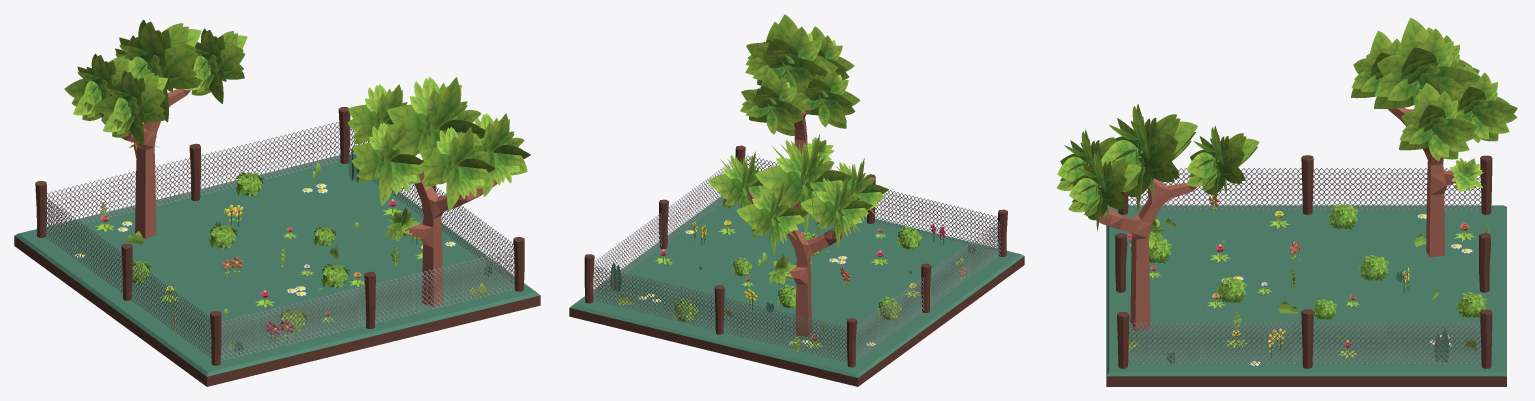
File: chicken_plot_no_chicken_house_no_fence.fbx
3 views of the same model, side by side, from view 1: azimuth 30°, elevation 25°; view 2: azimuth 150°, elevation 25°; view 3: azimuth 270°, elevation 25° (orthographic). The views are drawn at different scales.
Parts seen in each view (by area): view 1: Ground, Tree 1.001, Tree 1, Cylinder.004, Cylinder.003, Cylinder.002, Cylinder.001, Shrub.002, Shrub.001, Shrub.004; view 2: Ground, Tree 1, Tree 1.001, Cylinder.003, Cylinder.002, Cylinder.001, Cylinder.004, Shrub, Shrub.003, Shrub.002; view 3: Ground, Tree 1, Tree 1.001, Cylinder.001, Cylinder.002, Cylinder.003, Cylinder.004, Shrub.004, Shrub.003, Shrub.001, Shrub.002, Shrub.
Part boxes in pixels (x1,y1,x2,y2): Ground: (14,155,540,386); Tree 1.001: (347,77,530,307); Tree 1: (64,19,247,238); Cylinder.004: (220,250,514,361); Cylinder.003: (46,121,339,233); Cylinder.002: (35,181,221,365); Cylinder.001: (338,107,524,291); Shrub.002: (235,172,263,196); Shrub.001: (320,263,349,288); Shrub.004: (209,224,237,248); Ground: (569,193,1024,386); Tree 1: (708,134,888,336); Tree 1.001: (740,14,860,207); Cylinder.003: (594,266,847,361); Cylinder.002: (847,209,1007,367); Cylinder.001: (584,145,745,303); Cylinder.004: (746,155,998,250); Shrub: (897,225,921,249); Shrub.003: (878,296,901,320); Shrub.002: (673,299,697,322); Ground: (1106,205,1506,386); Tree 1: (1351,17,1517,257); Tree 1.001: (1056,104,1259,331); Cylinder.001: (1117,309,1492,368); Cylinder.002: (1118,155,1492,214); Cylinder.003: (1479,233,1490,292); Cylinder.004: (1115,233,1127,292); Shrub.004: (1358,255,1388,281); Shrub.003: (1326,203,1358,229); Shrub.001: (1215,277,1246,303); Shrub.002: (1455,292,1486,318); Shrub: (1149,238,1171,263).
Bounding box in the file's own units: 1400 × 954 × 1632.
